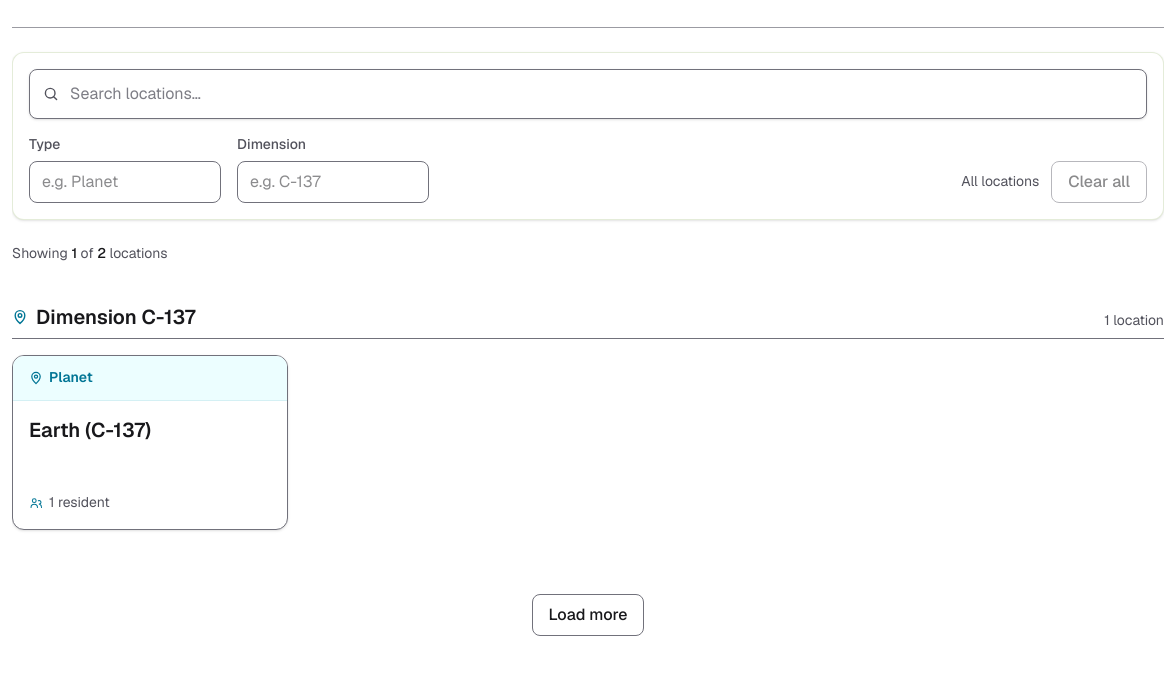
Test: LocationBrowser (integration: filter bar + results + GraphQL layer) › merges a second page onto the first via the real cache policy, without duplicating on retry
(page scrolled)
Check: the heading "Earth (C-137)" is shown, box top-left (29, 417), bottom-right (151, 443)
Click the button "Load more": (588, 615) top-left (532, 594), bottom-right (644, 636)
(page scrolled)
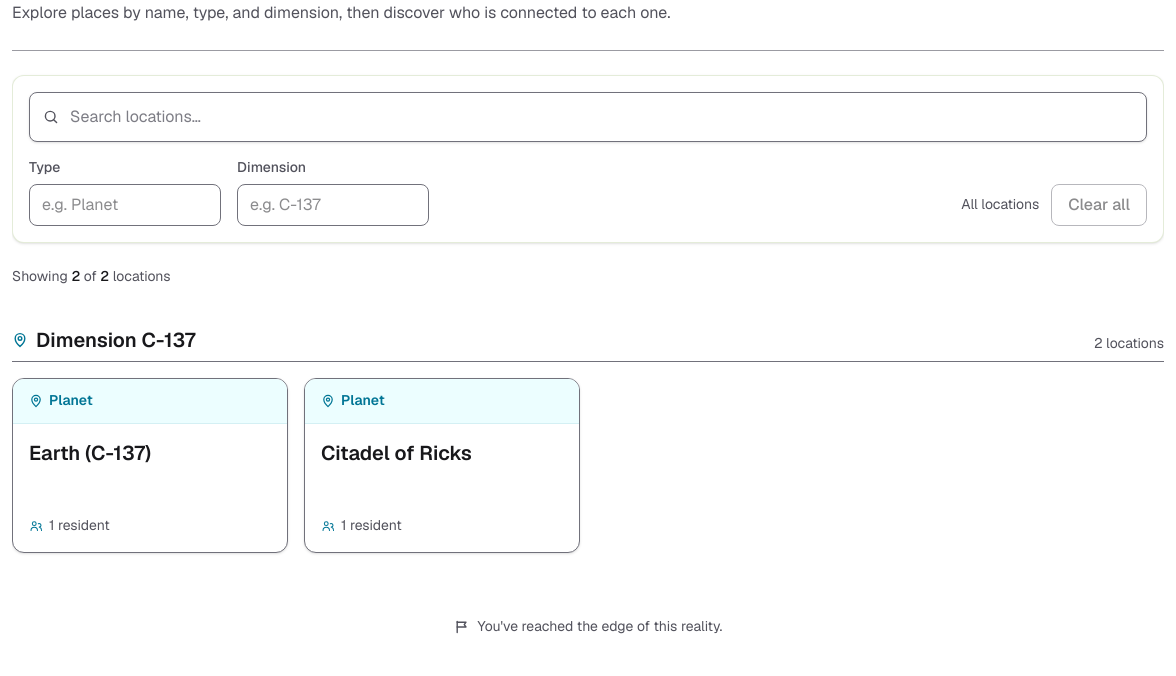
Check: the heading "Earth (C-137)" is shown, box top-left (29, 440), bottom-right (151, 466)
Check: the heading "Citadel of Ricks" is shown, box top-left (321, 440), bottom-right (472, 466)
Check: the text "You've reached the edge of this reality." is shown, box top-left (454, 617), bottom-right (722, 636)
